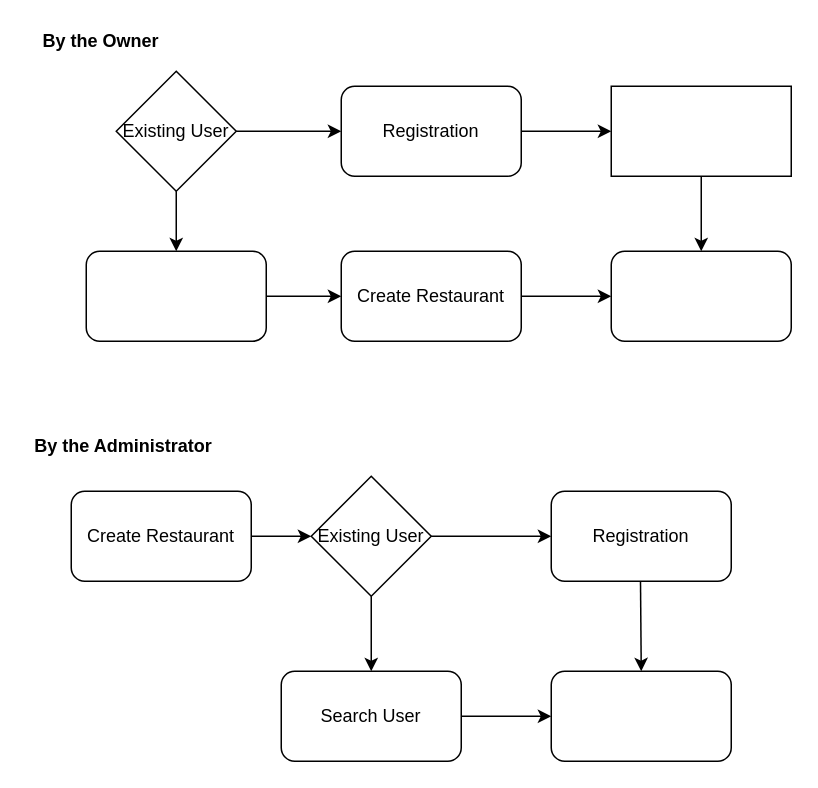
The diagram is 818 pixels wide and 788 high, and some of its shapes have lost their labels. Here are the shapes that lost their labels. From the top down, the centre of each, then its label:
At pixel 700 130: "Account".
At pixel 175 295: "Login".
At pixel 700 295: "Link it to Account".
At pixel 640 715: "Link to Account".
